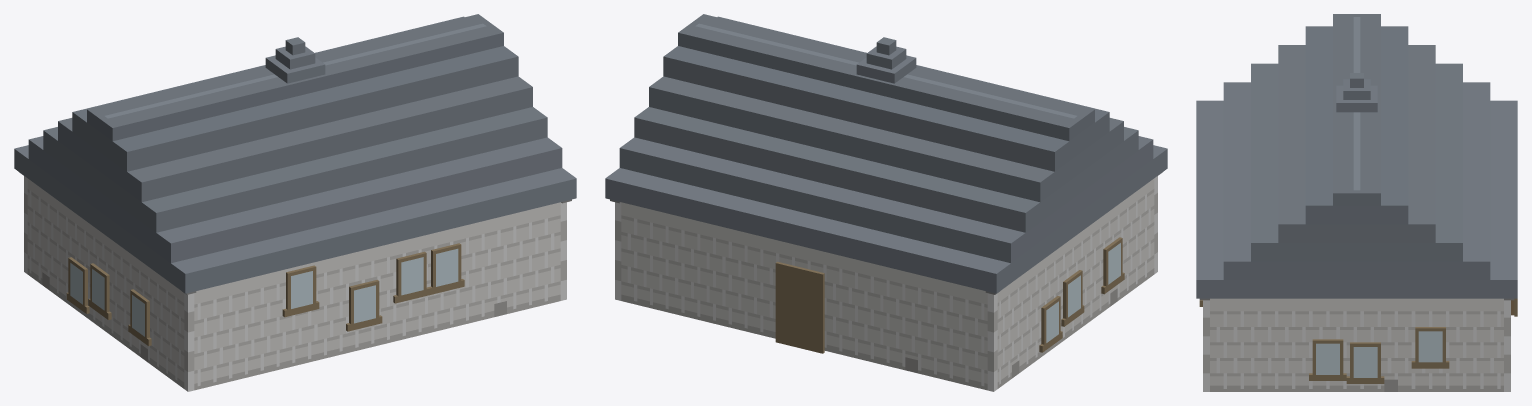
Rendered from templo_04.glb.
3 views of the same model, side by side, from view 1: azimuth 30°, elevation 25°; view 2: azimuth 150°, elevation 25°; view 3: azimuth 270°, elevation 25° (orthographic). The views are drawn at different scales.
Parts seen in each view (by area): view 1: templo_04; view 2: templo_04; view 3: templo_04.
Boxes of the visible parts, box(x1,y1,x2,y2) form: templo_04: box(14, 14, 576, 391); templo_04: box(605, 14, 1167, 391); templo_04: box(1196, 14, 1517, 391).
Bounding box in the file's own units: 12.4 × 7.4 × 9.4.
